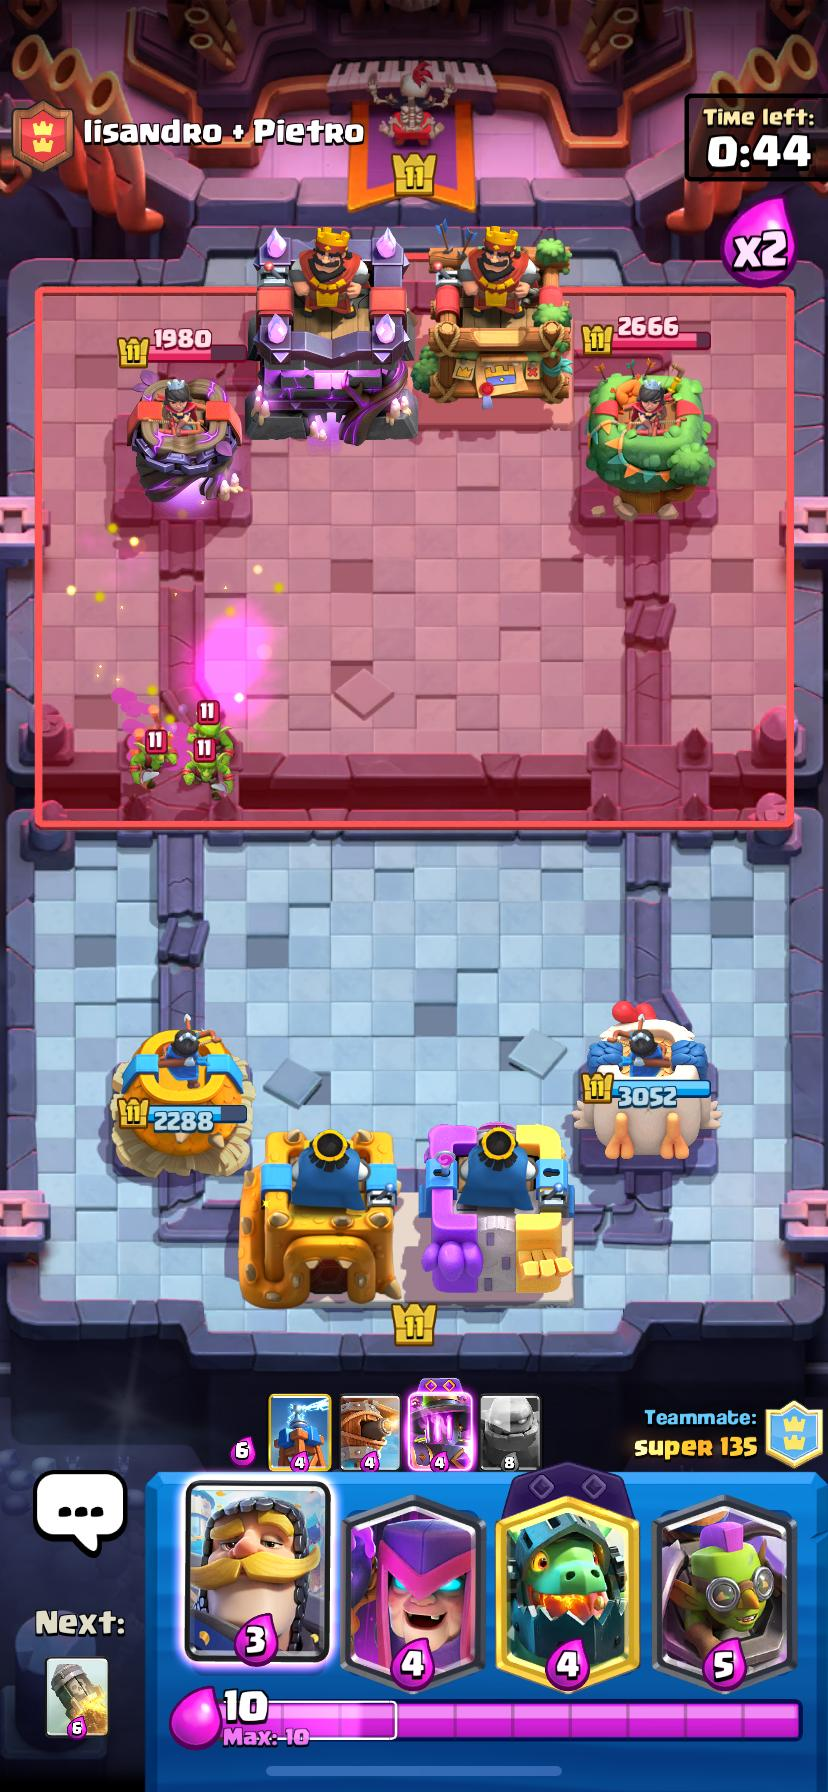EGoblin: (183, 722, 233, 801), (186, 698, 234, 767), (127, 725, 177, 790)
EKingTower: (249, 227, 412, 423), (411, 226, 571, 406)
EnemyPrincessTower: (587, 366, 712, 519), (127, 379, 241, 514)
OwnKingTower: (241, 1128, 401, 1306), (422, 1122, 573, 1299)
OwnPrincessTower: (114, 1017, 254, 1173), (581, 1003, 711, 1159)
